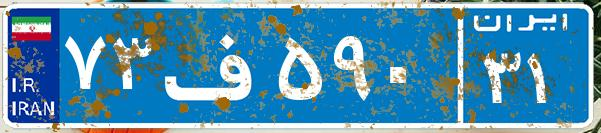0: (385, 28, 445, 110)
1: (525, 38, 570, 115)
3: (475, 38, 525, 113), (110, 28, 158, 105)
5: (273, 28, 330, 110)
7: (57, 26, 110, 107)
9: (330, 28, 385, 110)
ف: (158, 15, 273, 115)
